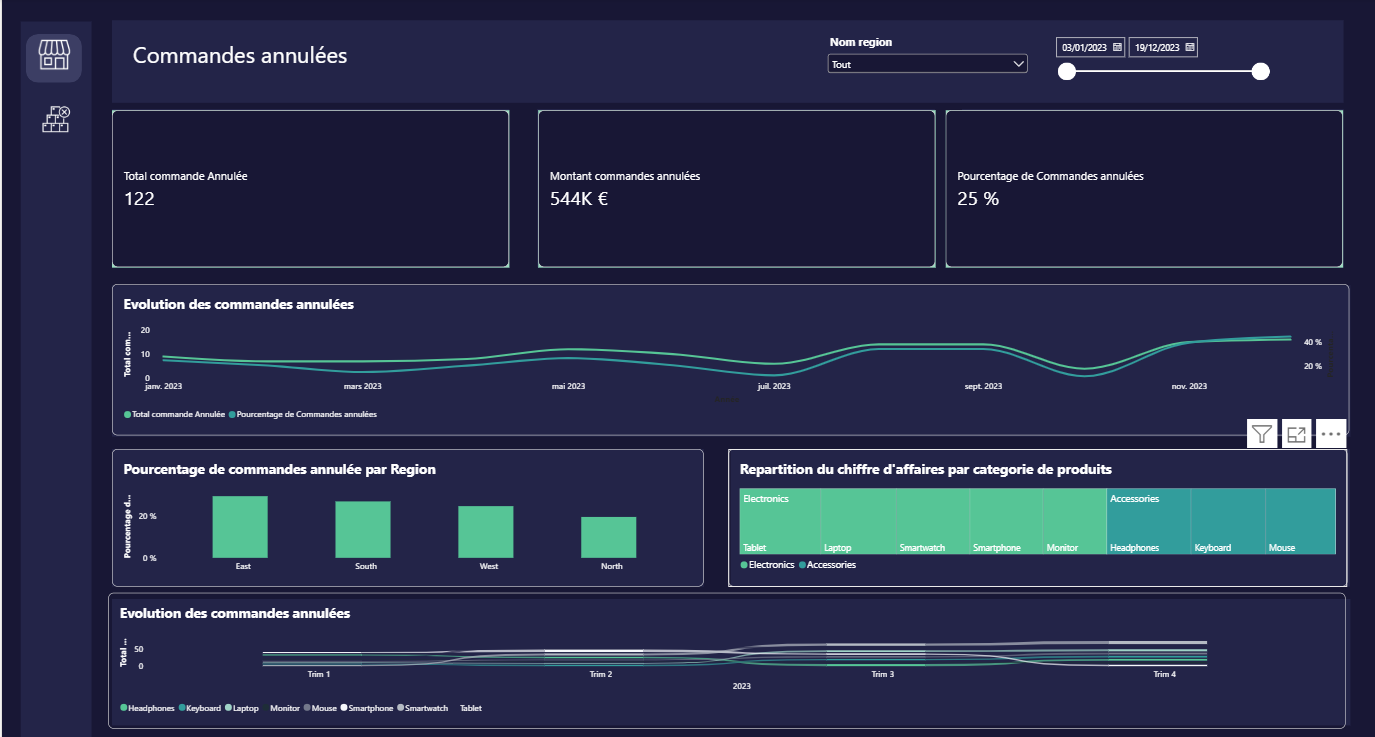

The page's visual inventory and layout, read from the dashboard file:
{"tool":"powerbi","page":{"name":" Vente Annulée","canvas":[2000,1080],"ordinal":1},"visuals":[{"type":"shape","box":[27.9,32.1,102.9,1047.9],"z":0},{"type":"shape","box":[160,30,1790,120],"z":1000},{"type":"shape","box":[160,160,577.5,230],"z":2000},{"type":"shape","box":[160,416,1800,220],"z":3000},{"type":"shape","box":[160,654,860,200],"z":4000},{"type":"shape","box":[1060,654,900,200],"z":5000},{"type":"shape","box":[160,872,1800,183.8],"z":6000},{"type":"textbox","box":[100,100,300,300],"z":7000},{"type":"textbox","box":[100,100,300,300],"z":8000},{"type":"textbox","box":[181.2,57.5,408.8,67.5],"z":9000},{"type":"lineChart","title":"Evolution des commandes annulées","fields":{"Category":["ventes.date commande.Variation.Hiérarchie de dates.Année","ventes.date commande.Variation.Hiérarchie de dates.Trimestre","ventes.date commande.Variation.Hiérarchie de dates.Mois"],"Y":["Mesure.Total commande Annulée"],"Y2":["Clients.Pourcentage de Commandes annulées"]},"box":[160,415,1798,220],"z":10000},{"type":"treemap","title":"Repartition du chiffre d''affaires par categorie de produits","fields":{"Details":["Produits.Nom produit"],"Group":["Produits.categorie"],"Values":["Mesure.Total ventes"]},"box":[1055,653.8,900,200],"z":11000},{"type":"clusteredColumnChart","title":"Pourcentage de commandes annulée par Region","fields":{"Category":["region.Nom region"],"Y":["Clients.Pourcentage de Commandes annulées"]},"box":[160,653.8,860,200],"z":12000},{"type":"slicer","fields":{"Values":["region.Nom region"]},"box":[1195,50,300,83.3],"z":13000},{"type":"slicer","fields":{"Values":["ventes.date commande"]},"box":[1525,50,330,82.5],"z":14000},{"type":"shape","box":[777.5,160,578.8,230],"z":15000},{"type":"shape","box":[1395,160,555,230],"z":16000},{"type":"cardVisual","fields":{"Data":["Mesure.Total commande Annulée"]},"box":[160,161.2,577.5,228.8],"z":17000},{"type":"cardVisual","fields":{"Data":["Clients.Montant commandes annulées"]},"box":[778.8,161.2,577.5,228.8],"z":18000},{"type":"cardVisual","fields":{"Data":["Clients.Pourcentage de Commandes annulées"]},"box":[1372.5,161.2,577.5,228.8],"z":19000},{"type":"ribbonChart","title":"Evolution des commandes annulées","fields":{"Category":["ventes.date commande.Variation.Hiérarchie de dates.Année","ventes.date commande.Variation.Hiérarchie de dates.Trimestre","ventes.date commande.Variation.Hiérarchie de dates.Mois"],"Series":["Produits.Nom produit"],"Y":["Mesure.Total commande Annulée"]},"box":[153.8,862.5,1798.8,197.5],"z":20000},{"type":"shape","box":[35,50,81.7,70.8],"z":22000},{"type":"image","box":[43.3,50,65,60],"z":23000},{"type":"image","box":[49.2,150,58.9,47.8],"z":23500}]}

Visuals, with their boxes on the page's 2000x1080 design canvas (x1, y1, x2, y2). These are canvas units, not pixel positions in the 1375x737 screenshot, which may show the page scaled, cropped or inside an application window:
shape: region(28, 32, 131, 1080)
shape: region(160, 30, 1950, 150)
shape: region(160, 160, 738, 390)
shape: region(160, 416, 1960, 636)
shape: region(160, 654, 1020, 854)
shape: region(1060, 654, 1960, 854)
shape: region(160, 872, 1960, 1056)
textbox: region(100, 100, 400, 400)
textbox: region(100, 100, 400, 400)
textbox: region(181, 58, 590, 125)
"Evolution des commandes annulées" lineChart: region(160, 415, 1958, 635)
"Repartition du chiffre d''affaires par categorie de produits" treemap: region(1055, 654, 1955, 854)
"Pourcentage de commandes annulée par Region" clusteredColumnChart: region(160, 654, 1020, 854)
slicer - region.Nom region: region(1195, 50, 1495, 133)
slicer - ventes.date commande: region(1525, 50, 1855, 132)
shape: region(778, 160, 1356, 390)
shape: region(1395, 160, 1950, 390)
cardVisual - Mesure.Total commande Annulée: region(160, 161, 738, 390)
cardVisual - Clients.Montant commandes annulées: region(779, 161, 1356, 390)
cardVisual - Clients.Pourcentage de Commandes annulées: region(1372, 161, 1950, 390)
"Evolution des commandes annulées" ribbonChart: region(154, 862, 1953, 1060)
shape: region(35, 50, 117, 121)
image: region(43, 50, 108, 110)
image: region(49, 150, 108, 198)
